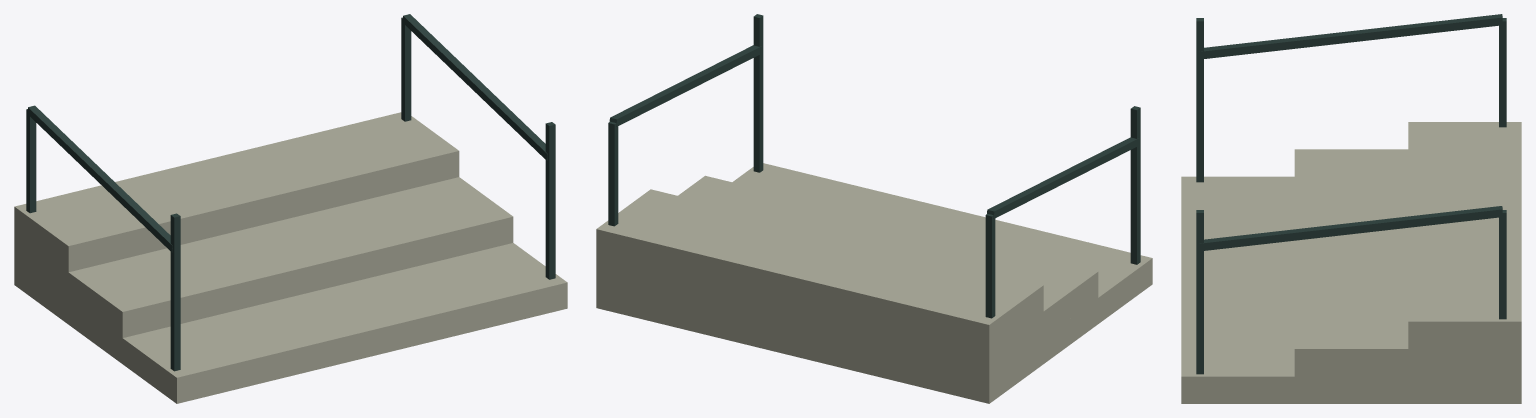
Rendered from StairLanding.obj.
3 views of the same model, side by side, from view 1: azimuth 30°, elevation 25°; view 2: azimuth 150°, elevation 25°; view 3: azimuth 270°, elevation 25° (orthographic). The views are drawn at different scales.
Visible parts, largest first — view 1: StairLanding; view 2: StairLanding; view 3: StairLanding.
Boxes of the visible parts, x1,y1,x2,y2 form: StairLanding: (14, 14, 567, 403); StairLanding: (596, 14, 1152, 403); StairLanding: (1181, 14, 1521, 403).
Bounding box in the file's own units: 2.5 × 1.12 × 1.8.
1 material, 1 textured.
